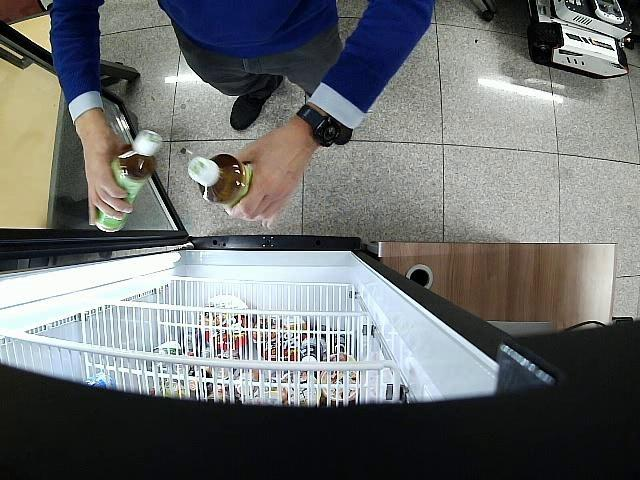19_17cha: (96, 130, 162, 232), (188, 155, 252, 206)
